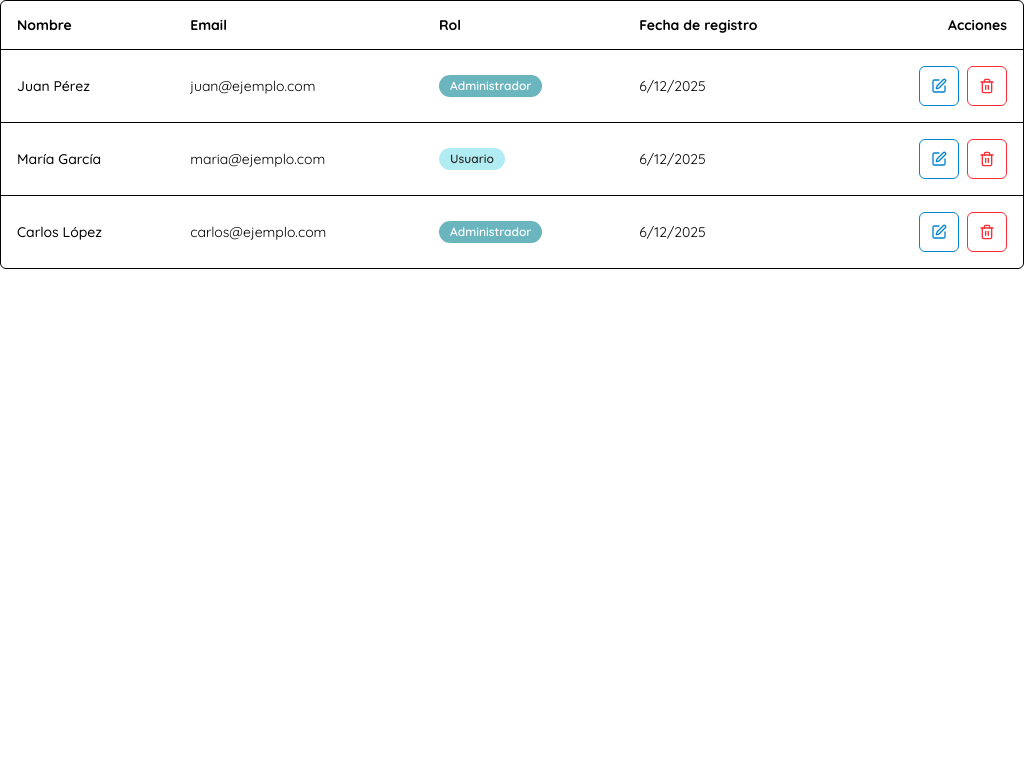
UsuariosList › Funcionalidad de eliminación › debe cerrar dialog al hacer clic en cancelar
Click the button named "eliminar" in the row of "Juan Pérez" at (987, 86), box left=967, top=66, right=1007, bottom=106
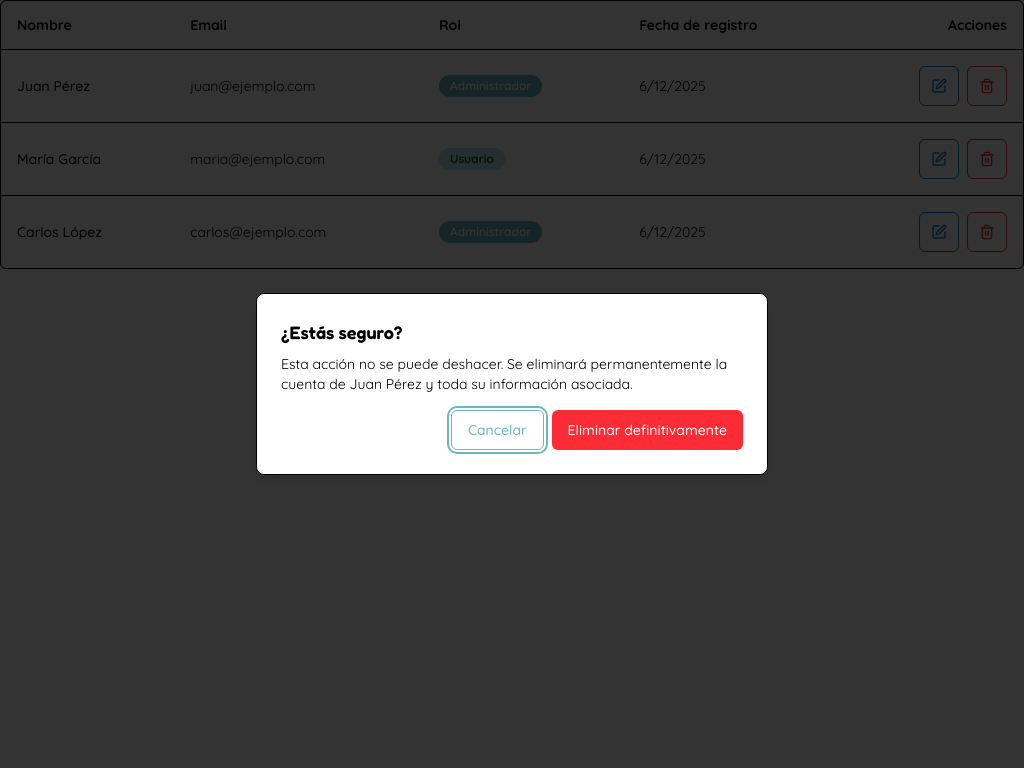
Click the button "Cancelar" at (497, 430), box left=451, top=410, right=544, bottom=450
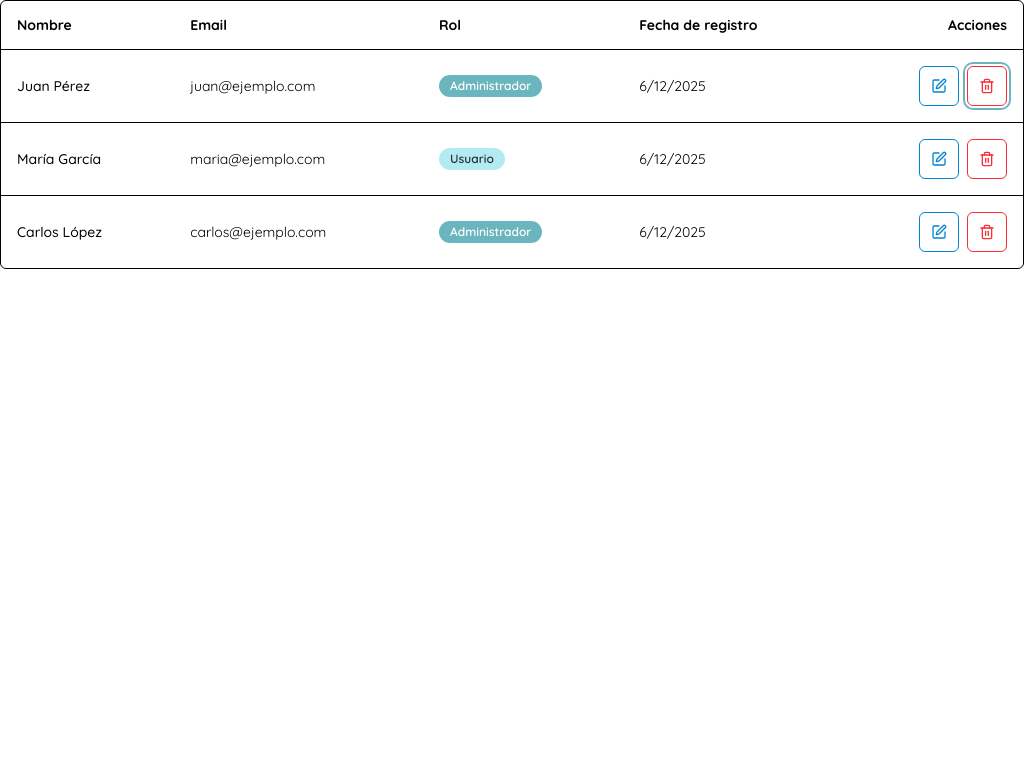
Now the heading "¿Estás seguro?" is gone
